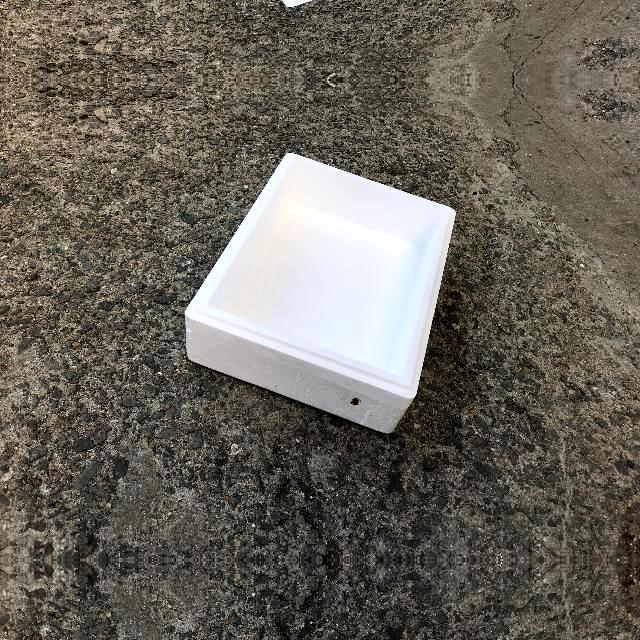Styrofoam: (185, 153, 458, 437), (185, 153, 456, 433)
